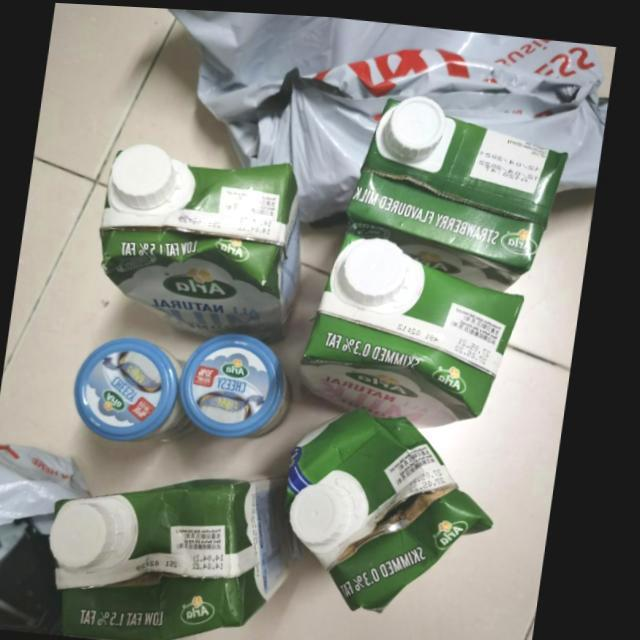plastic_container: (80, 336, 199, 440), (185, 331, 296, 438)
